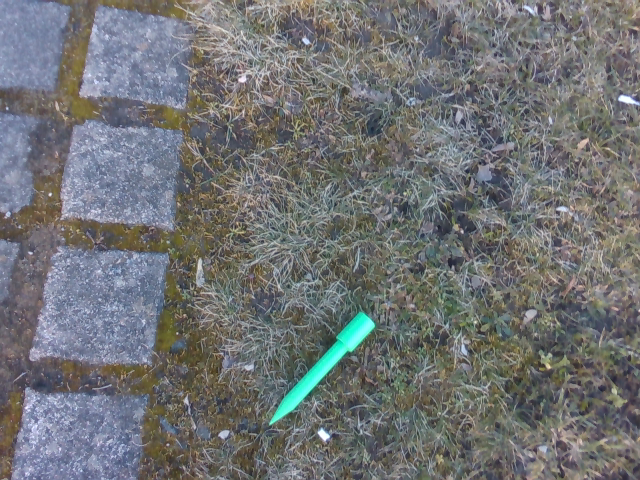Probe: (265, 309, 376, 433)
